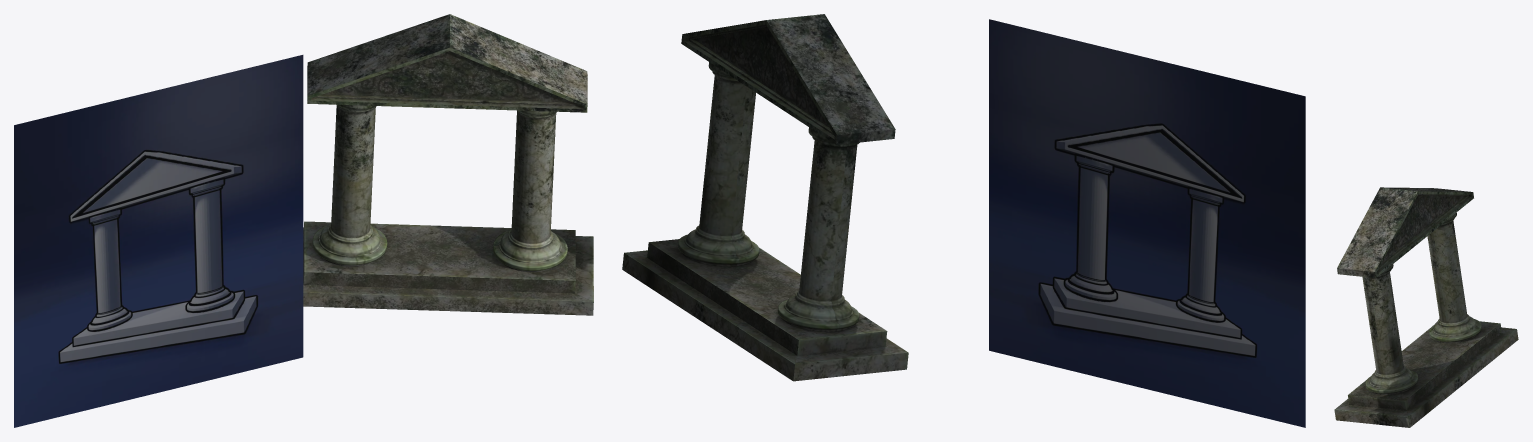
Rendered from models.glb.
The picture shows the model from 3 angles, left to right: view 1: azimuth 30°, elevation 25°; view 2: azimuth 150°, elevation 25°; view 3: azimuth 270°, elevation 25°; orthographic projection. The views are drawn at different scales.
Parts seen in each view (by area): view 1: SquareMesh.001, Stone_gate.001; view 2: SquareMesh.001, Stone_gate.001; view 3: Stone_gate.001.
Part boxes in pixels (box(x1,y1,x2,y2)): SquareMesh.001: box(14, 55, 303, 427); Stone_gate.001: box(303, 14, 593, 315); SquareMesh.001: box(989, 19, 1305, 427); Stone_gate.001: box(622, 14, 908, 381); Stone_gate.001: box(1334, 187, 1518, 427).
Bounding box in the file's own units: 12.93 × 6.23 × 4.82.
Materials: 2 (2 with a texture image).
